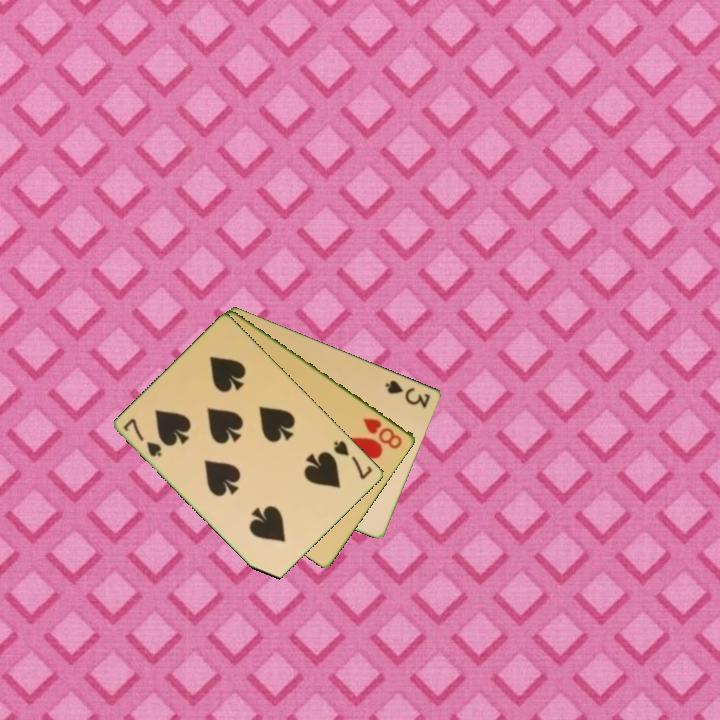3s: (382, 376, 433, 411)
7s: (120, 414, 165, 460), (331, 437, 376, 482)
8h: (360, 414, 406, 452)
